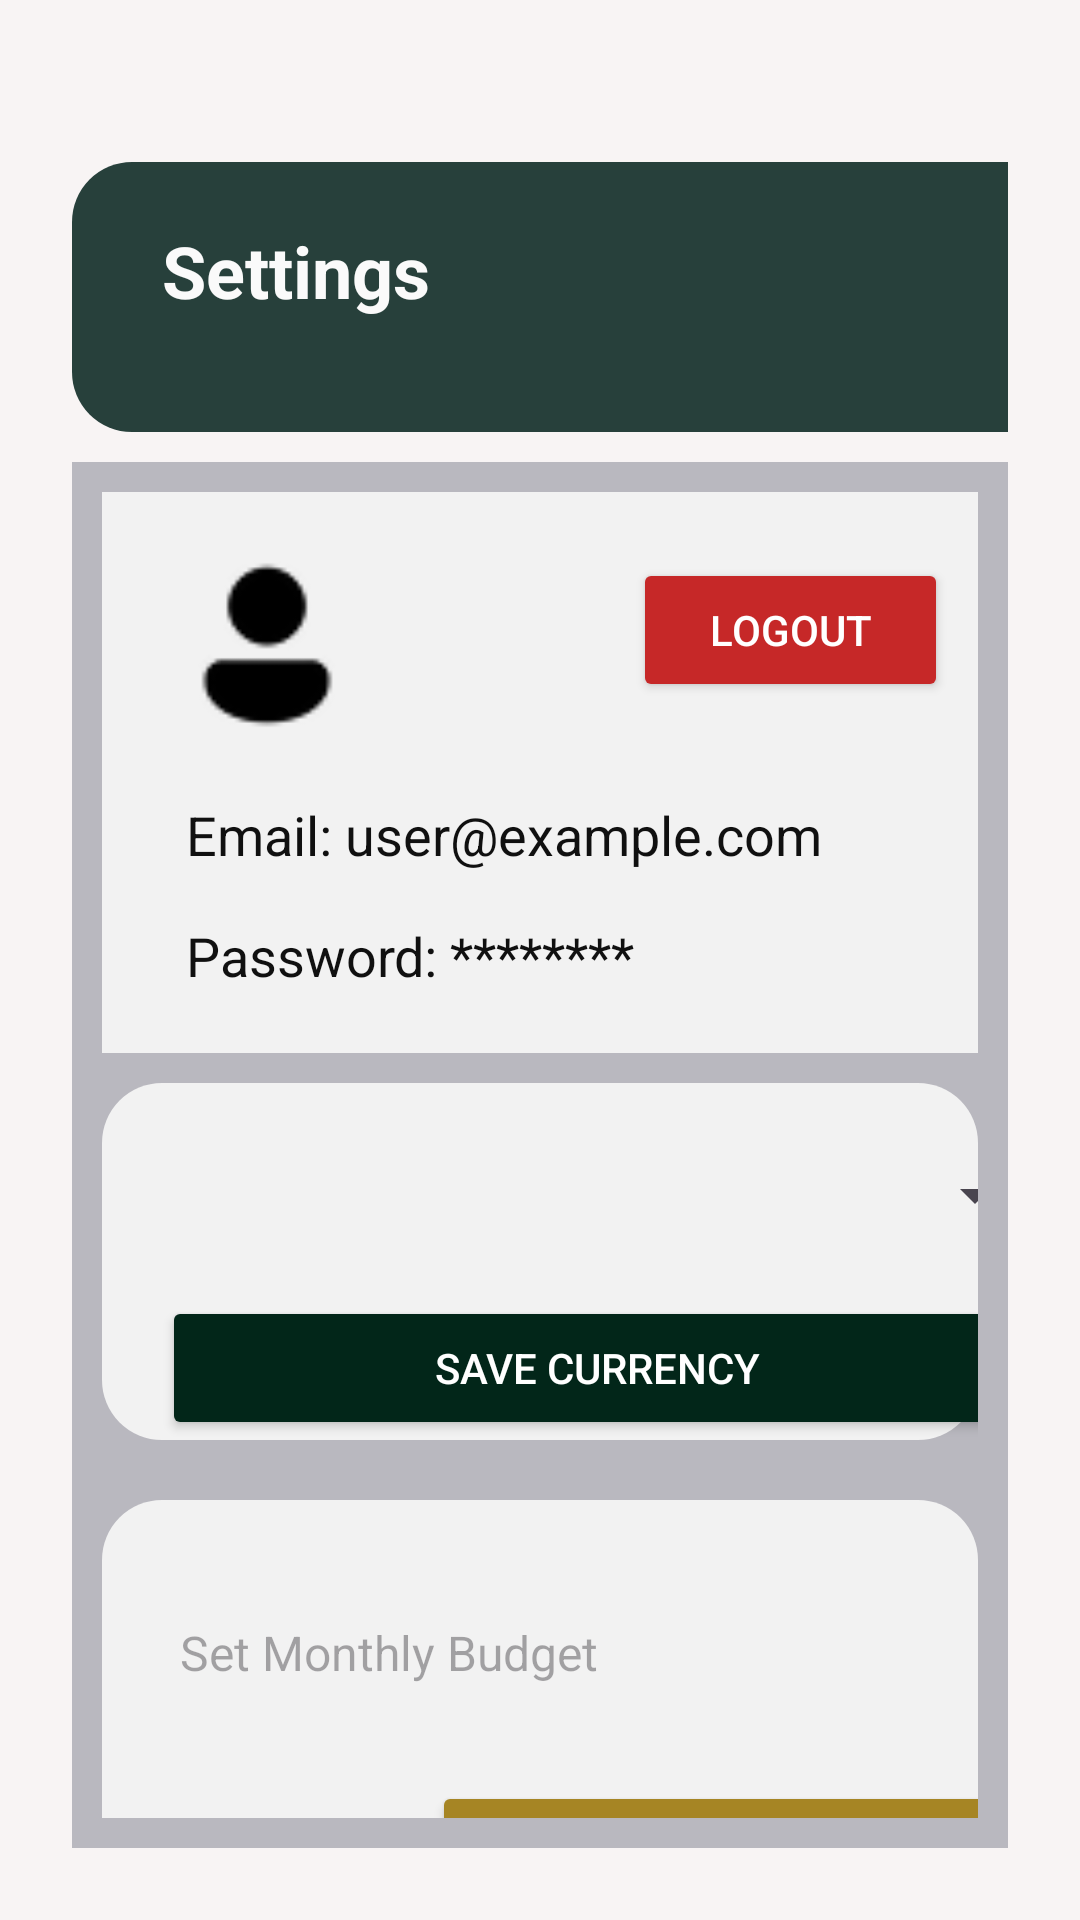

Named icons in this screenshot (1080 x 1920) and their bounding boxes, [x1=x1, y1=y1, x2=x2, y2=y2]:
account: [x1=202, y1=564, x2=332, y2=726]
